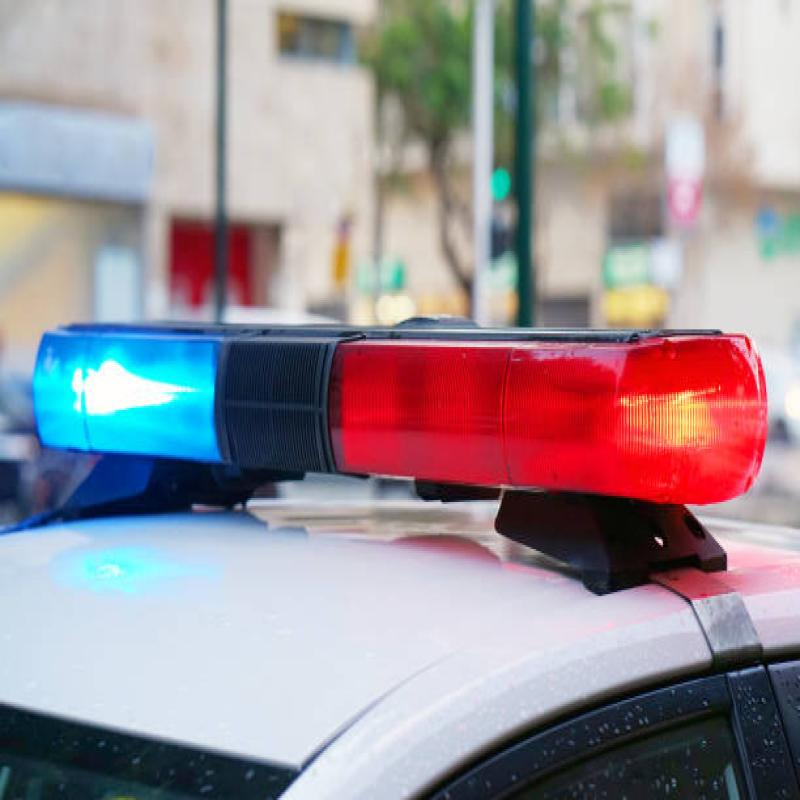AmbulanceSiren: (29, 278, 765, 557)
